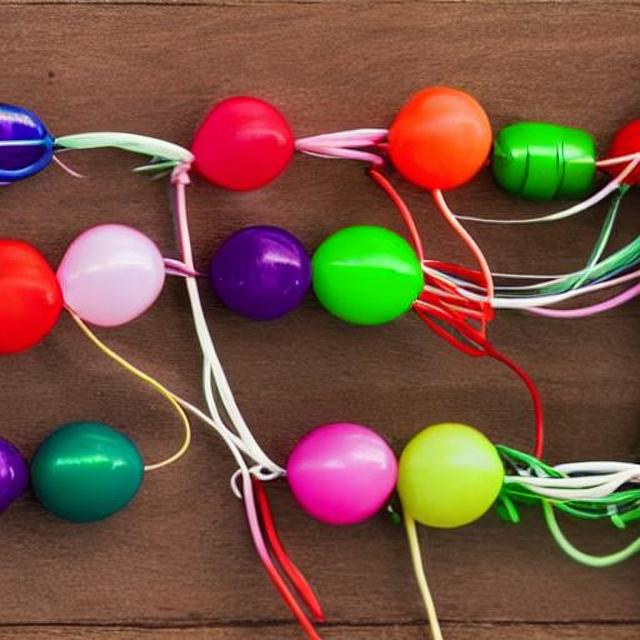balloon: (276, 416, 396, 536), (310, 221, 430, 333), (31, 414, 146, 518), (385, 84, 493, 192), (402, 418, 505, 530), (63, 220, 168, 326), (187, 93, 297, 192), (483, 120, 598, 204), (210, 226, 312, 320), (0, 228, 58, 360), (1, 98, 56, 186), (0, 431, 25, 513)
